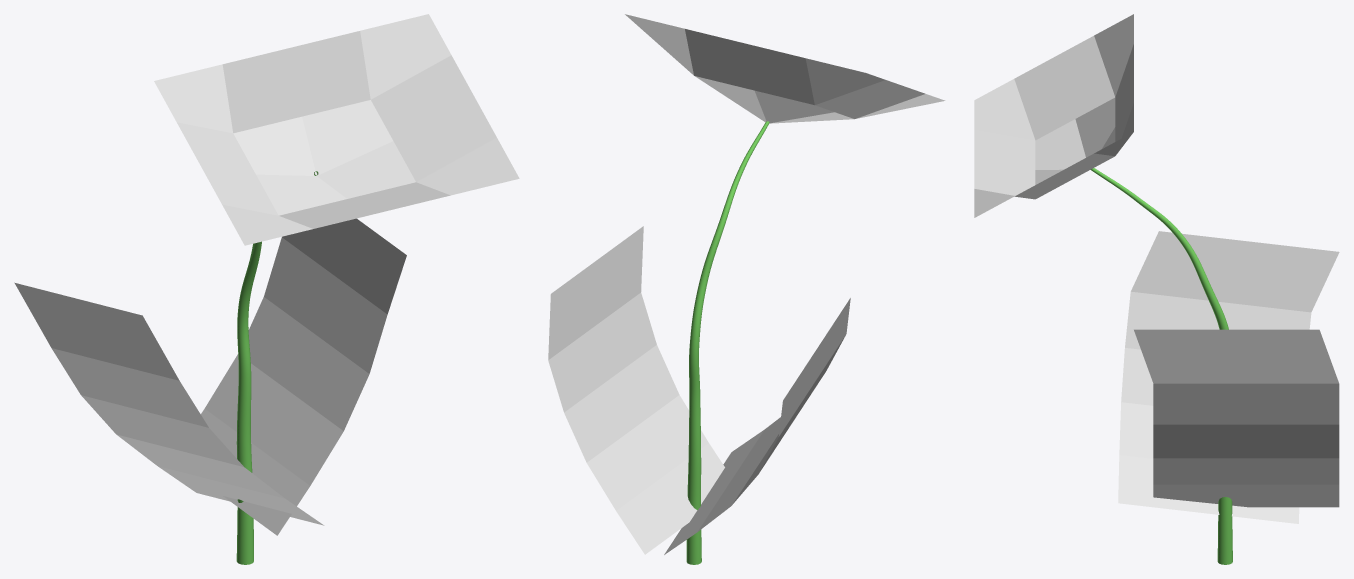
The model's file is RedPlant.fbx.
3 views of the same model, side by side, from view 1: azimuth 30°, elevation 25°; view 2: azimuth 150°, elevation 25°; view 3: azimuth 270°, elevation 25° (orthographic). The views are drawn at different scales.
Visible parts, largest first — view 1: redFlowerHead, high res leaf, high res leaf.002; view 2: high res leaf, redFlowerHead, high res leaf.002; view 3: high res leaf, redFlowerHead, high res leaf.002.
Boxes of the visible parts, x1=… form: redFlowerHead: x1=154, y1=14, x2=519, y2=564; high res leaf: x1=201, y1=218, x2=406, y2=535; high res leaf.002: x1=14, y1=282, x2=324, y2=525; high res leaf: x1=548, y1=226, x2=724, y2=554; redFlowerHead: x1=625, y1=14, x2=945, y2=564; high res leaf.002: x1=664, y1=298, x2=850, y2=554; high res leaf: x1=1134, y1=329, x2=1339, y2=507; redFlowerHead: x1=974, y1=14, x2=1232, y2=564; high res leaf.002: x1=1118, y1=231, x2=1339, y2=523.
Size of the model in its own units: 162 by 289 by 197.
